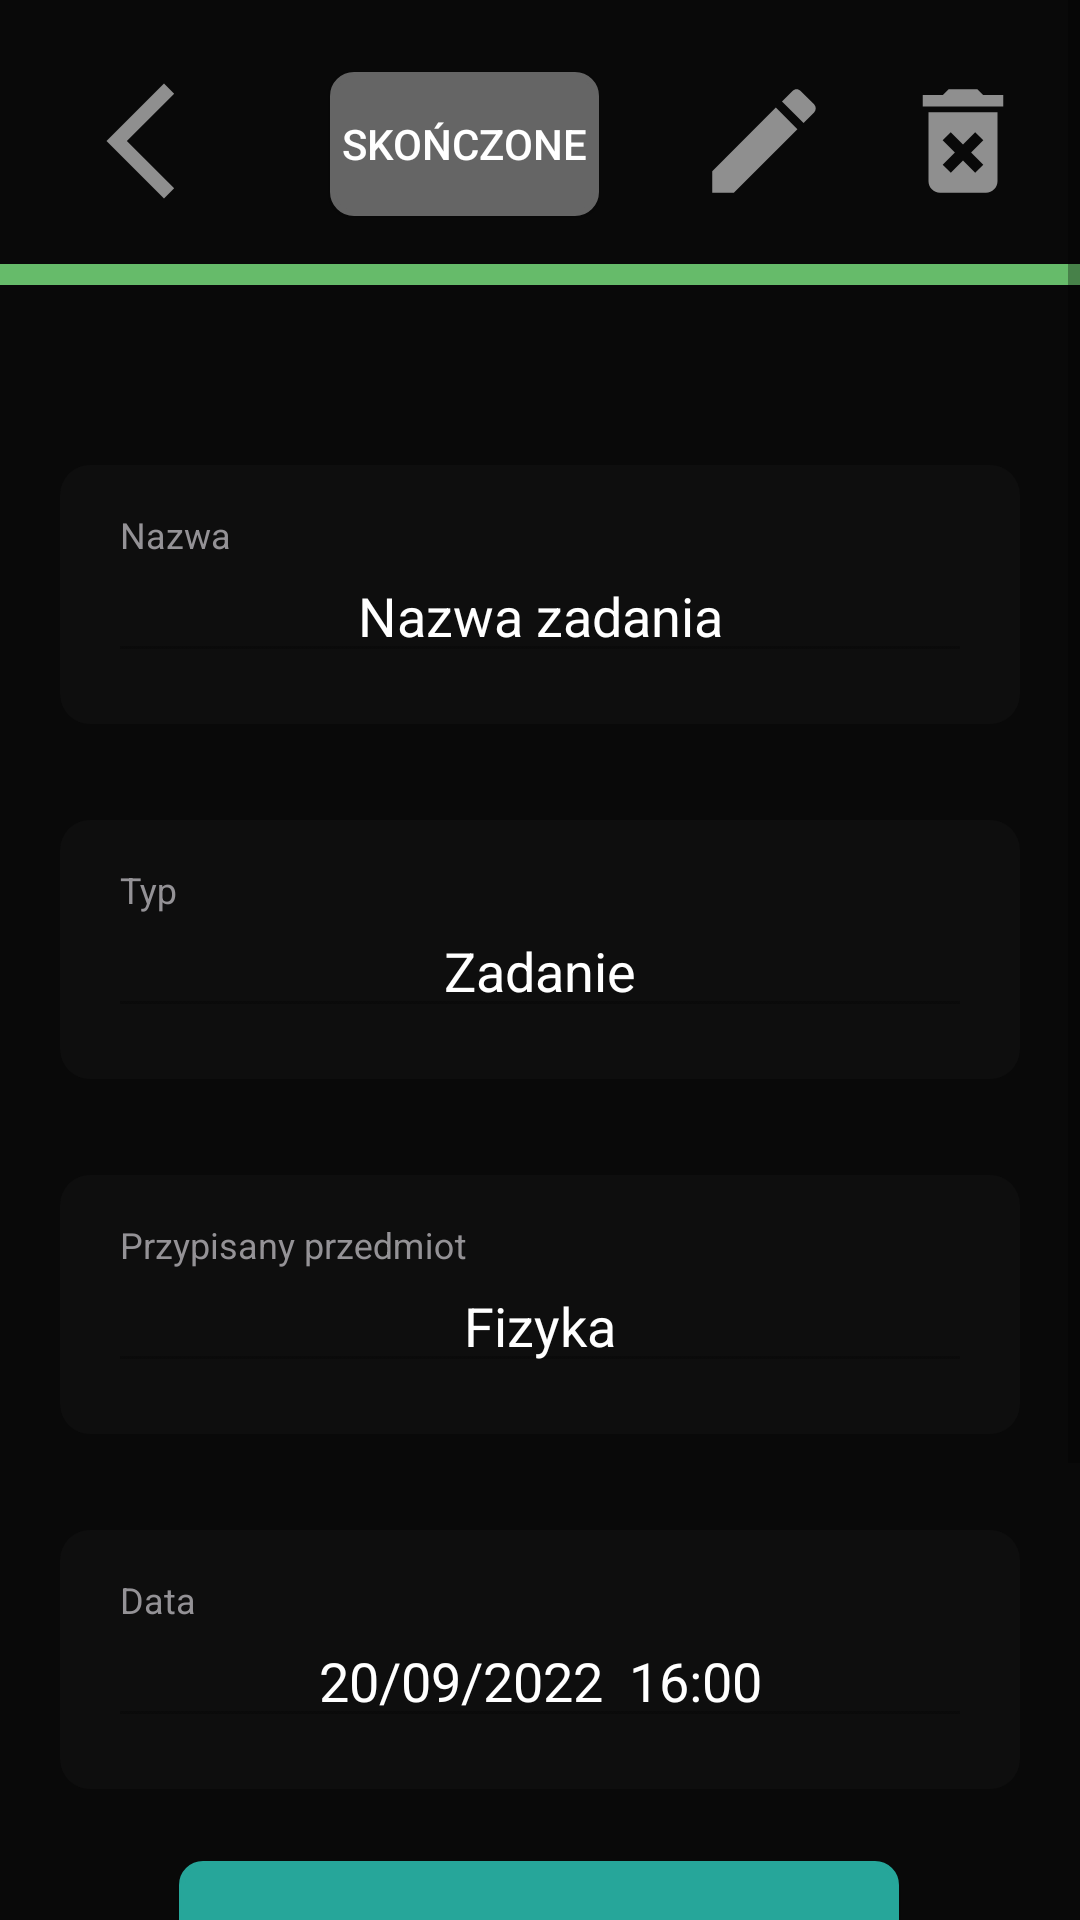

Icon click points for this 1080w x 1920h phone screenshot, format point (x, y):
arrow back: point (140, 141)
delete: point (963, 141)
edit: point (764, 141)
